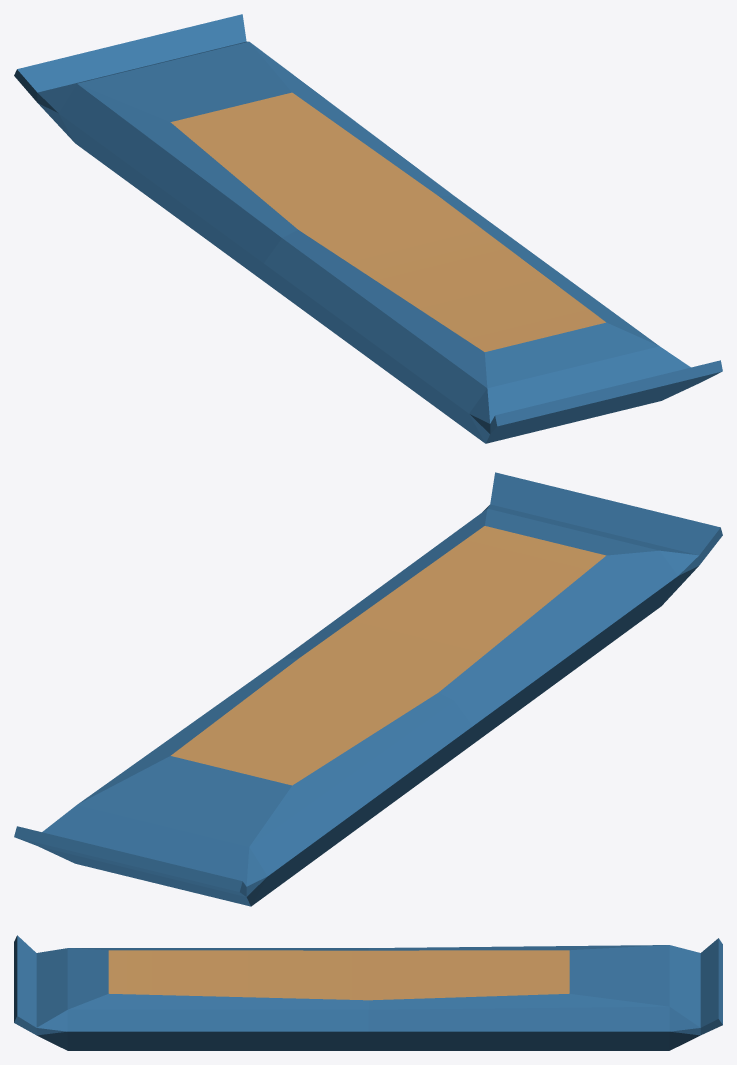
File: food_pasta.fbx
The picture shows the model from 3 angles, top to bottom: view 1: azimuth 30°, elevation 25°; view 2: azimuth 150°, elevation 25°; view 3: azimuth 270°, elevation 25°; orthographic projection. The views are drawn at different scales.
Visible parts, largest first — view 1: food_pasta; view 2: food_pasta; view 3: food_pasta.
Boxes of the visible parts, x1,y1,x2,y2 form: food_pasta: [14, 14, 722, 443]; food_pasta: [14, 472, 722, 906]; food_pasta: [14, 935, 722, 1050].
Bounding box in the file's own units: 53.92 × 14.73 × 200.
